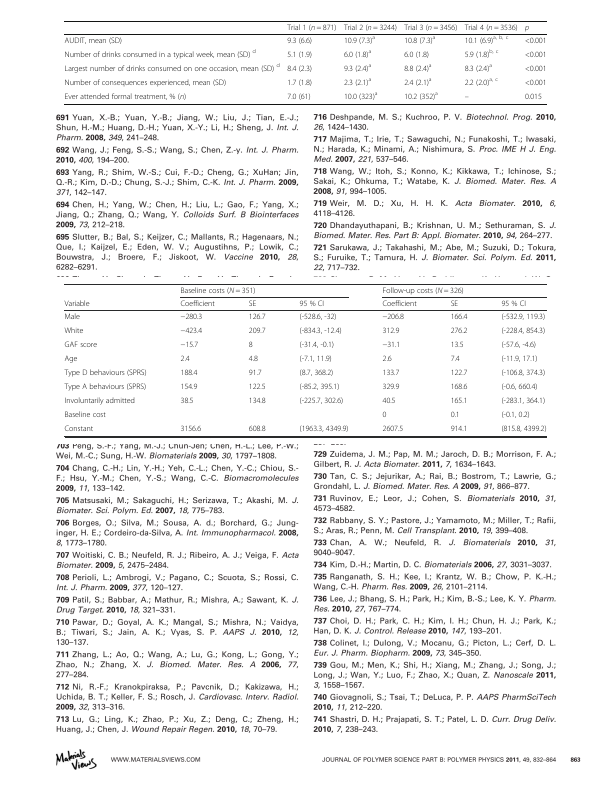borderless: (63, 282, 546, 436), (63, 19, 547, 104)
cell: (64, 62, 281, 74), (64, 48, 257, 60), (64, 78, 227, 88), (64, 92, 187, 102), (63, 368, 147, 378), (63, 382, 147, 392), (381, 286, 465, 295), (63, 396, 136, 406), (180, 286, 256, 295), (64, 36, 123, 46), (464, 34, 509, 46), (299, 424, 349, 434), (343, 23, 398, 32), (403, 23, 458, 32), (464, 23, 519, 32), (500, 424, 547, 434), (500, 312, 546, 322), (500, 326, 546, 336), (500, 368, 546, 378), (500, 396, 546, 406), (286, 23, 337, 32), (299, 396, 344, 406), (63, 410, 107, 420), (403, 90, 439, 102), (299, 326, 342, 336), (464, 48, 499, 60), (464, 76, 499, 88), (343, 90, 378, 102), (299, 382, 340, 392), (343, 34, 376, 46), (403, 34, 436, 46), (299, 312, 337, 322), (500, 354, 538, 364), (500, 382, 538, 392), (381, 299, 418, 309), (500, 340, 537, 350), (180, 299, 216, 309), (299, 340, 335, 350), (63, 340, 98, 350), (299, 368, 334, 378), (343, 48, 372, 60), (343, 62, 372, 74), (403, 62, 432, 74), (464, 62, 493, 74), (343, 76, 372, 88), (403, 76, 432, 88), (299, 354, 333, 364), (500, 410, 531, 420), (63, 424, 94, 434), (63, 299, 90, 309), (500, 299, 527, 309), (286, 36, 313, 46), (286, 50, 313, 60), (403, 50, 430, 60), (286, 64, 313, 74), (286, 78, 313, 88), (299, 299, 325, 309), (286, 92, 311, 102), (381, 312, 405, 322), (180, 312, 203, 322), (180, 326, 203, 336), (381, 424, 404, 434), (524, 36, 547, 46), (524, 50, 547, 60), (524, 64, 547, 74), (524, 78, 547, 88), (180, 424, 202, 434), (63, 326, 84, 336), (381, 340, 401, 350), (381, 326, 400, 336), (180, 340, 199, 350), (381, 368, 400, 378), (381, 382, 400, 392), (524, 92, 543, 102), (63, 312, 81, 322), (248, 312, 266, 322), (450, 312, 468, 322), (248, 326, 266, 336), (450, 326, 468, 336), (180, 368, 198, 378), (450, 368, 468, 378), (180, 382, 198, 392), (248, 382, 266, 392), (450, 382, 468, 392), (248, 396, 266, 406), (450, 396, 468, 406), (248, 424, 266, 434), (450, 424, 468, 434), (63, 354, 78, 364), (248, 368, 263, 378), (381, 396, 396, 406), (450, 340, 464, 350), (180, 396, 194, 406), (180, 354, 191, 364), (248, 354, 259, 364), (381, 354, 392, 364), (450, 354, 461, 364), (450, 410, 461, 420), (248, 299, 257, 309), (450, 299, 459, 309), (248, 340, 254, 350), (381, 410, 387, 420), (524, 25, 530, 32), (464, 96, 470, 100)
